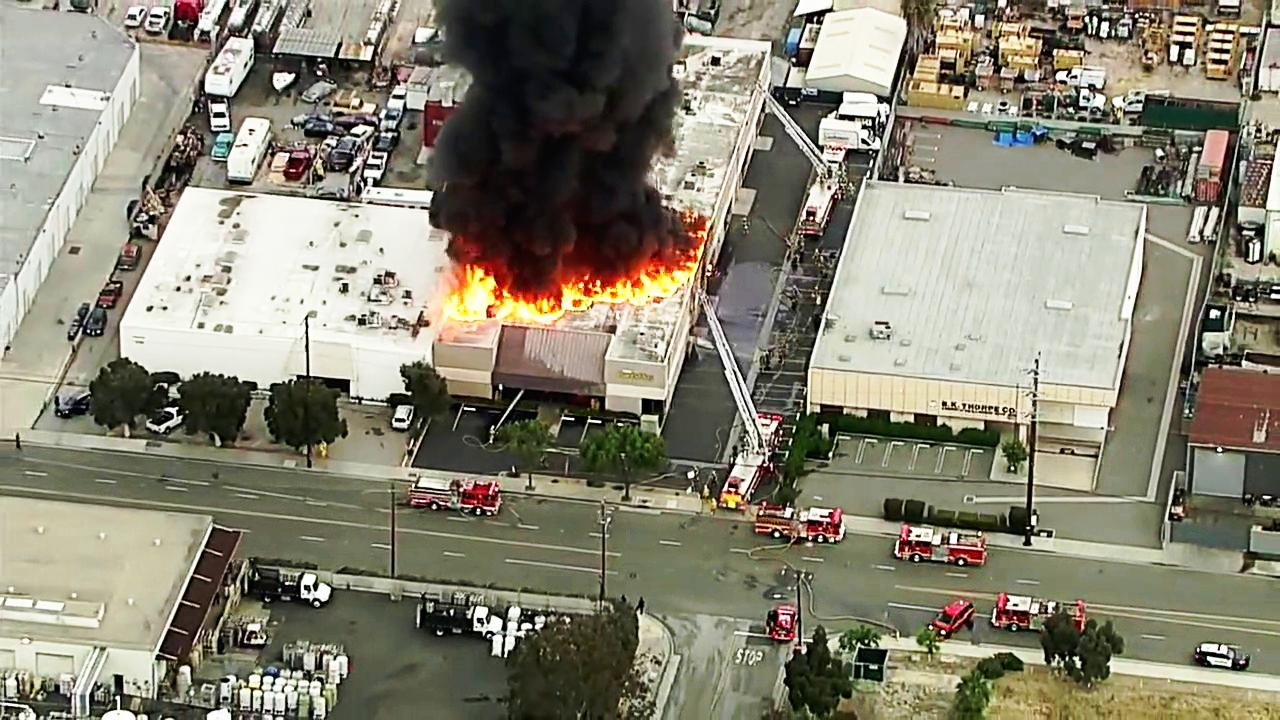fire: (523, 262, 690, 319), (437, 259, 557, 331)
smoke: (455, 0, 679, 248)
